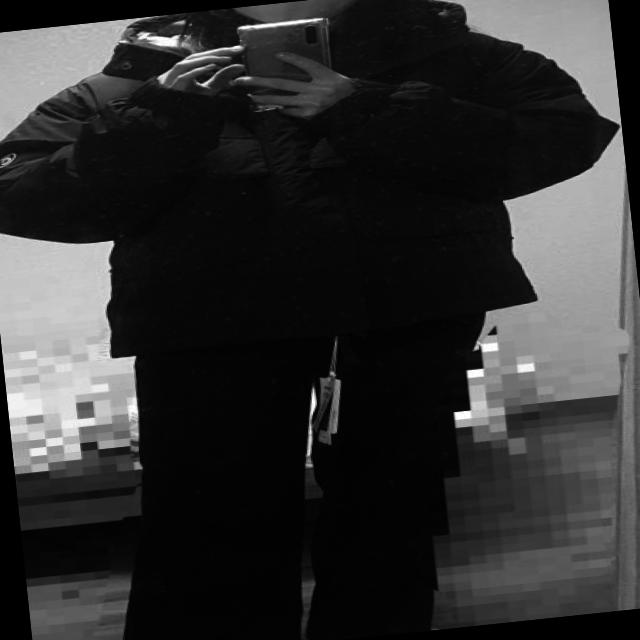padding: (0, 0, 638, 368)
trainingpants: (90, 296, 500, 640)
